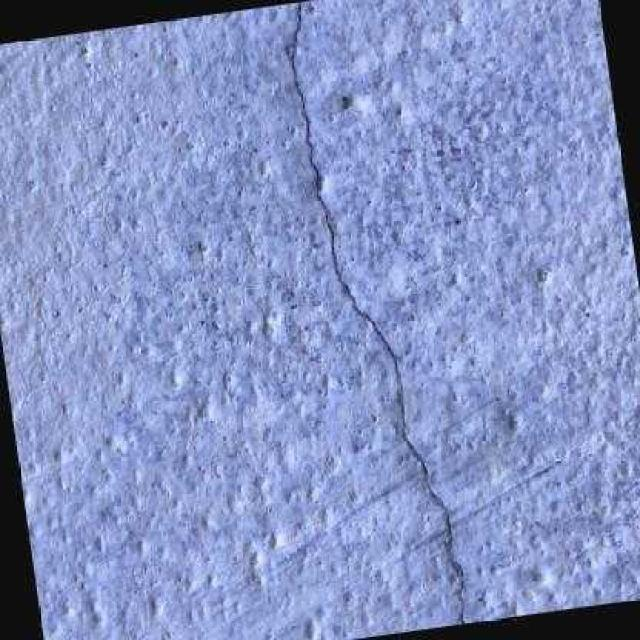D00: (285, 0, 467, 624)
